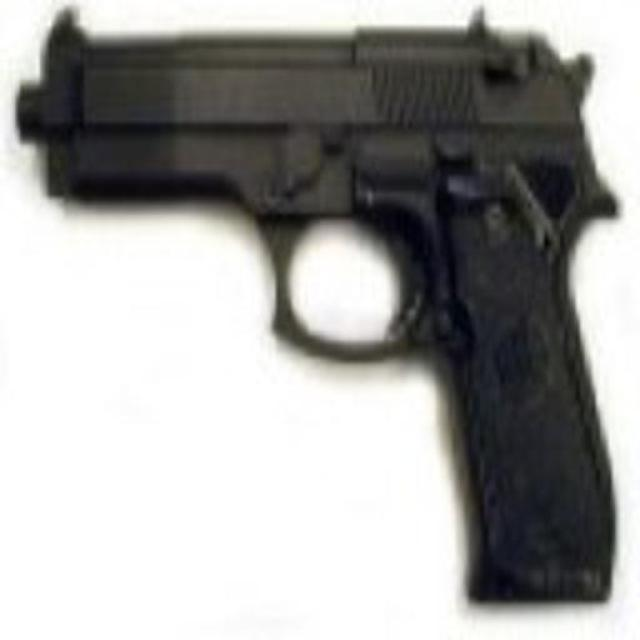pistol: (15, 5, 620, 602)
